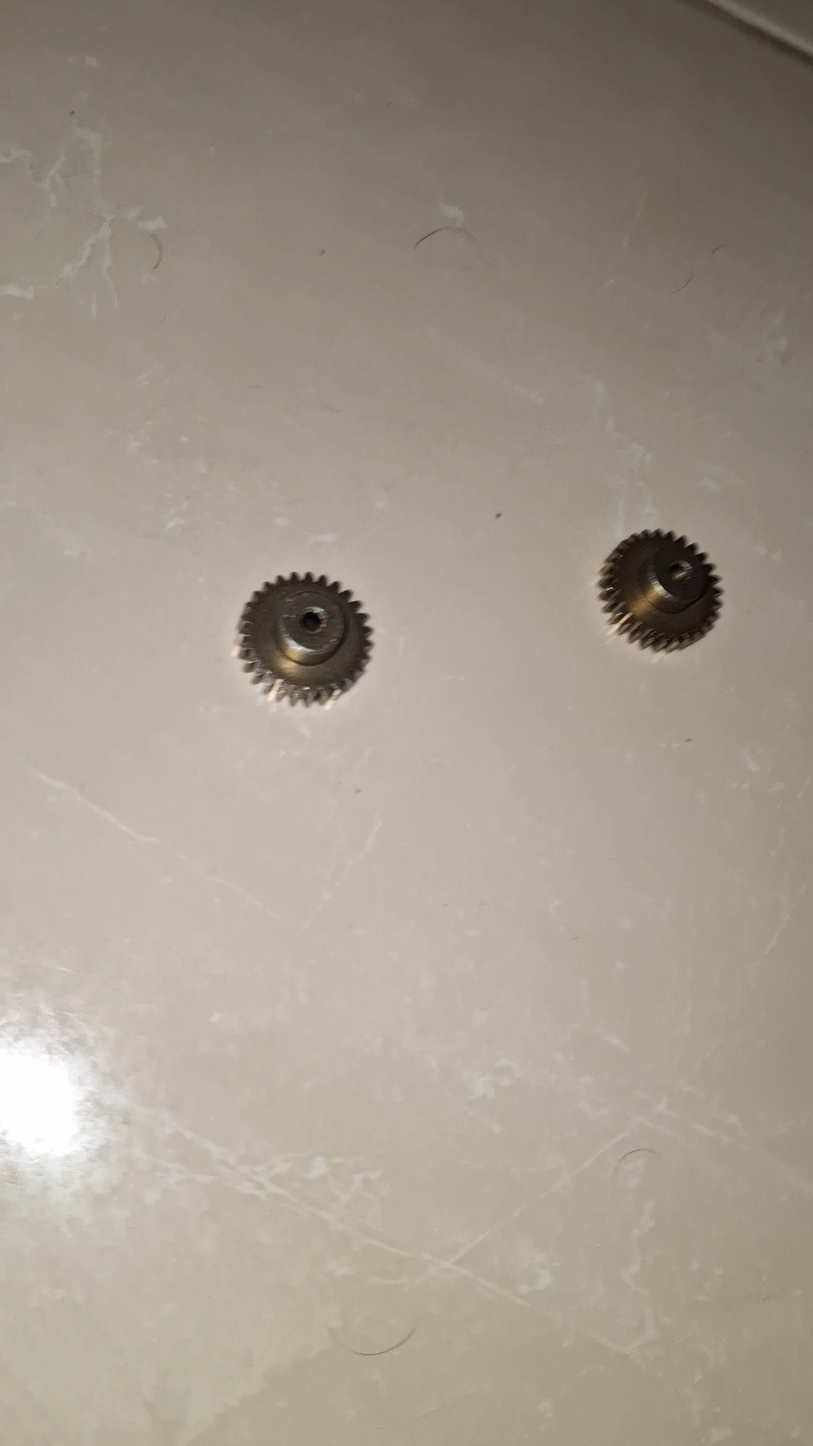spur gear: (236, 573, 371, 704), (599, 531, 721, 650)
